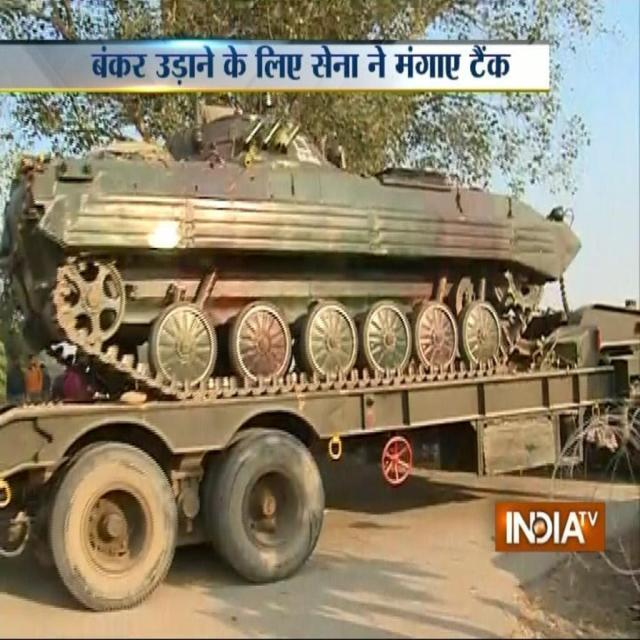MIL_MBT: (5, 116, 577, 356)
